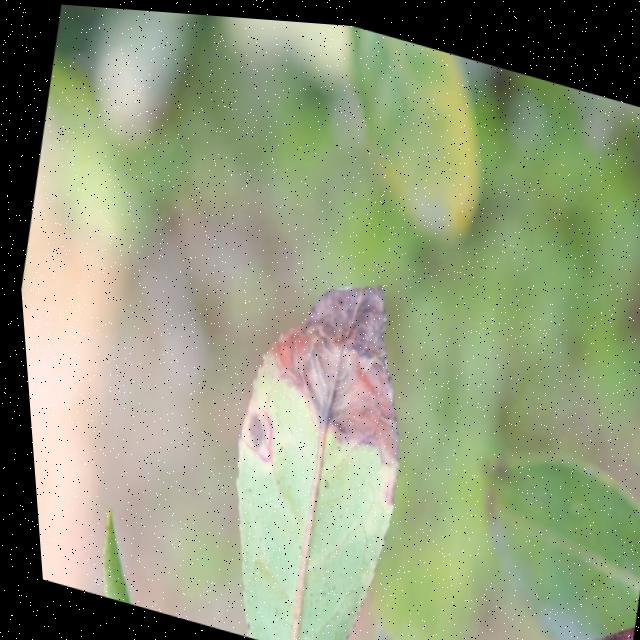Tea cloud leaf blight: (255, 251, 440, 478)
